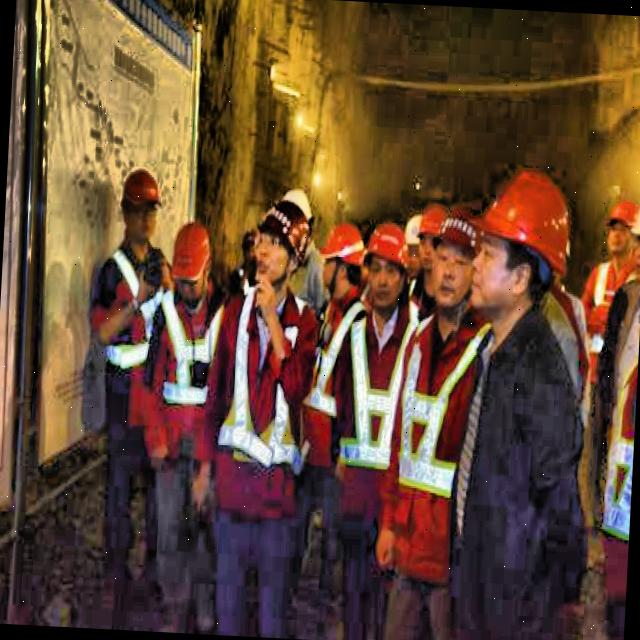helmet: (471, 167, 571, 329), (252, 196, 311, 302), (426, 212, 482, 312), (164, 221, 219, 312), (116, 163, 169, 250), (254, 204, 302, 297), (274, 187, 320, 277), (367, 222, 410, 311), (322, 223, 366, 300), (600, 193, 640, 259), (418, 201, 451, 278), (401, 214, 428, 289)
